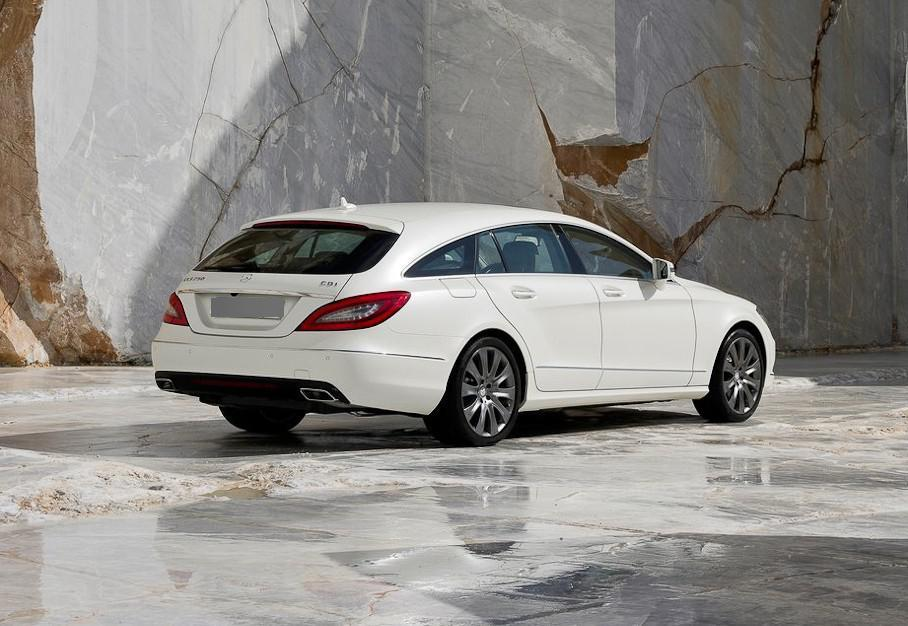Wagon: (148, 195, 778, 447)
